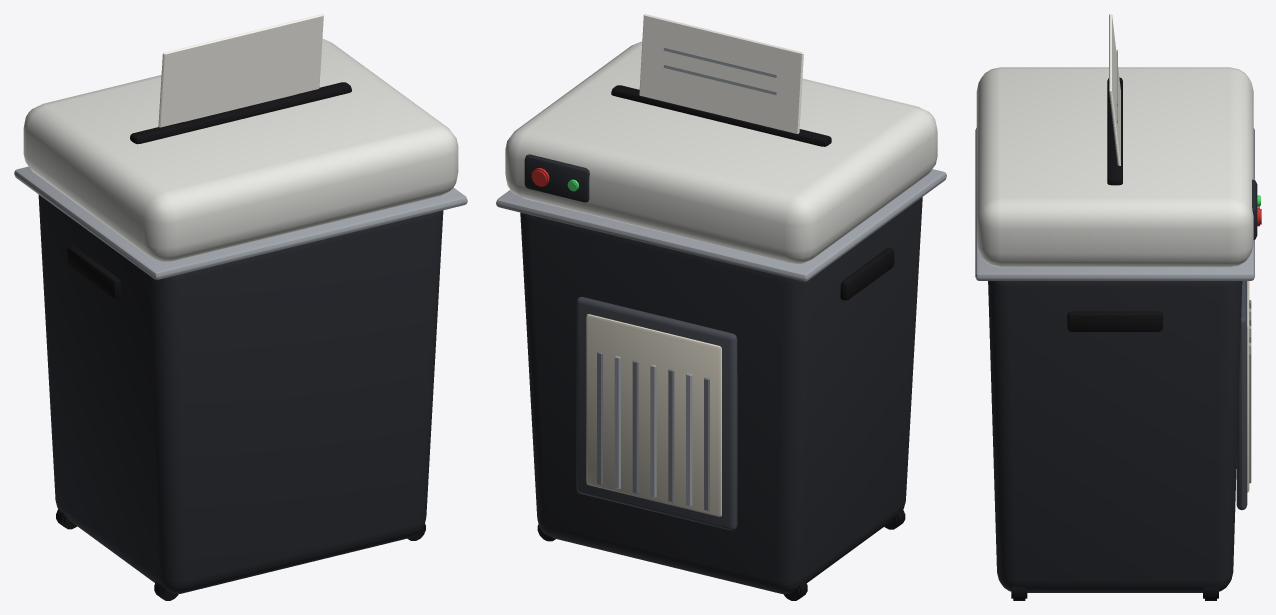
Rendered from shredder.obj.
The picture shows the model from 3 angles, left to right: view 1: azimuth 30°, elevation 25°; view 2: azimuth 150°, elevation 25°; view 3: azimuth 270°, elevation 25°; orthographic projection. The views are drawn at different scales.
Size of the model in its own units: 0.665 by 1.01 by 0.5375.
